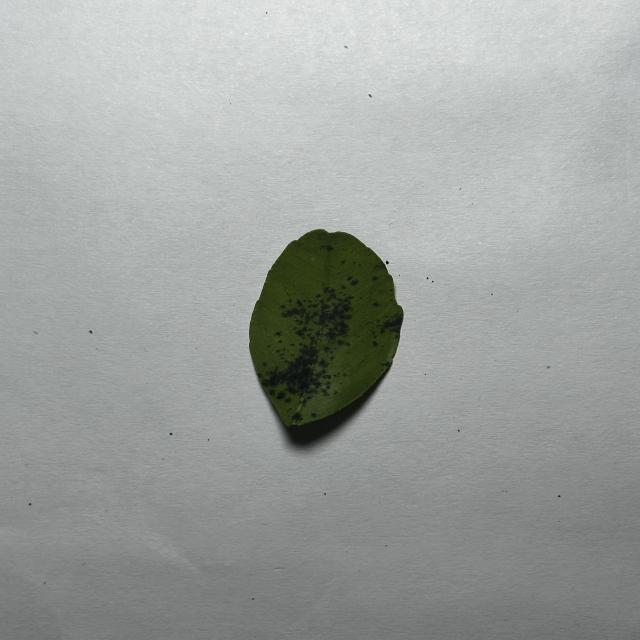sooty_mold: (250, 229, 403, 426)
